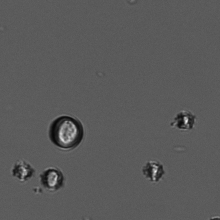Living Cell: (48, 114, 85, 151), (40, 167, 65, 191), (143, 160, 165, 183), (11, 161, 35, 181), (173, 110, 196, 130)
